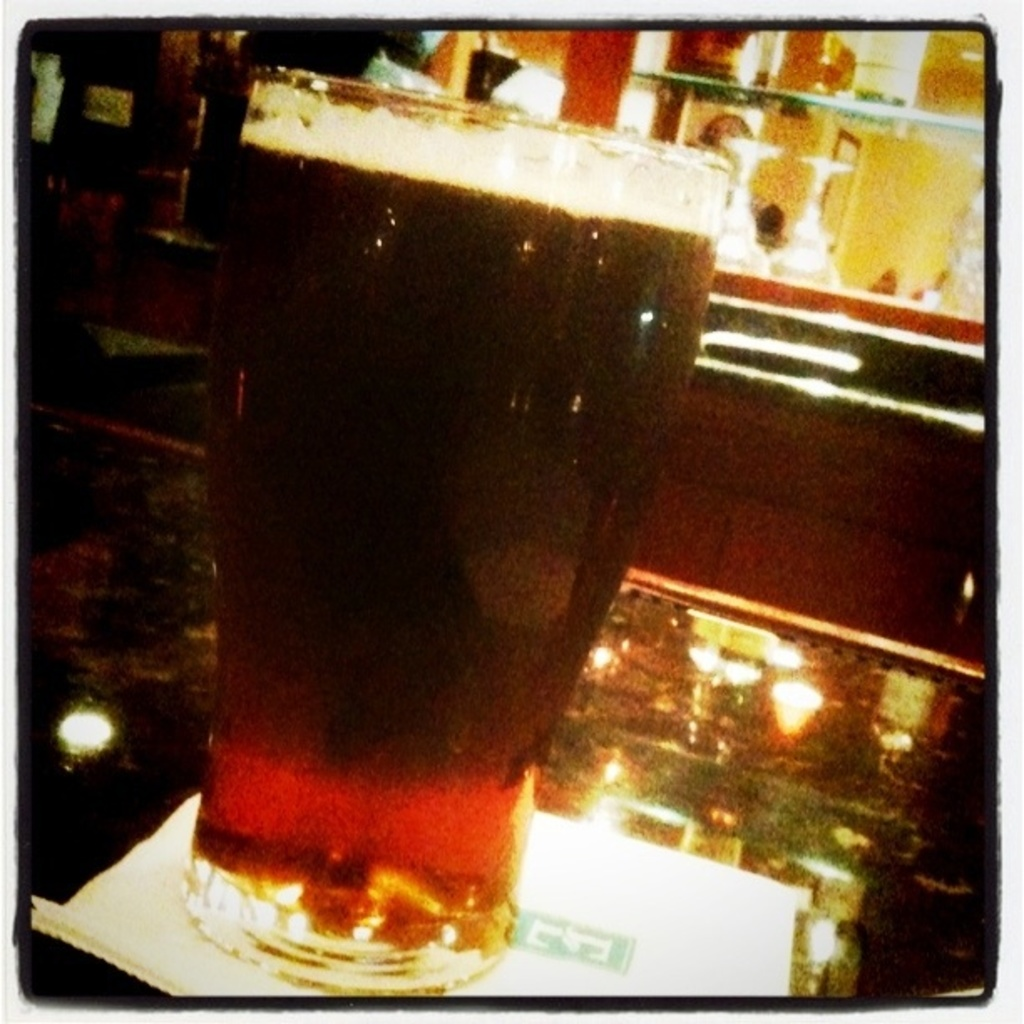Beer: (185, 50, 736, 982)
